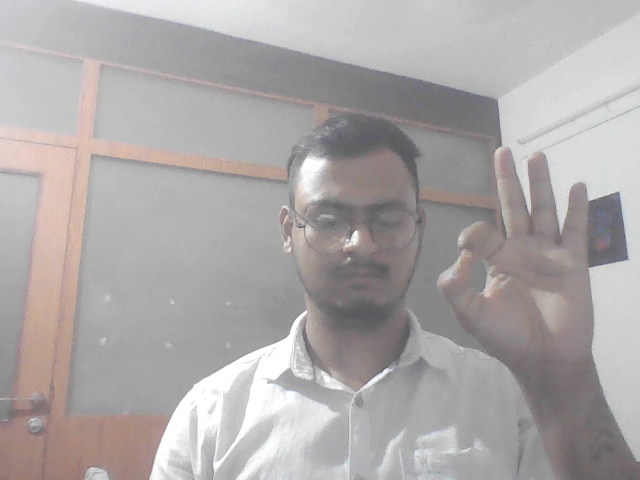OK: (429, 146, 616, 373)
